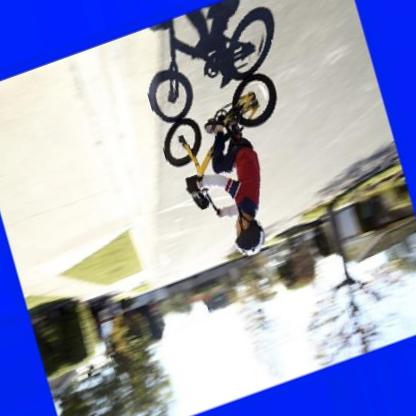with helmet: (233, 214, 265, 256)
